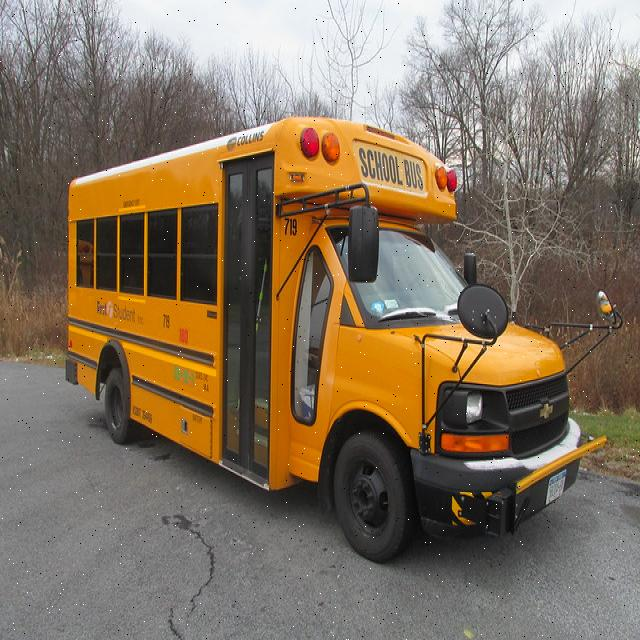Bus: (67, 116, 606, 557)
